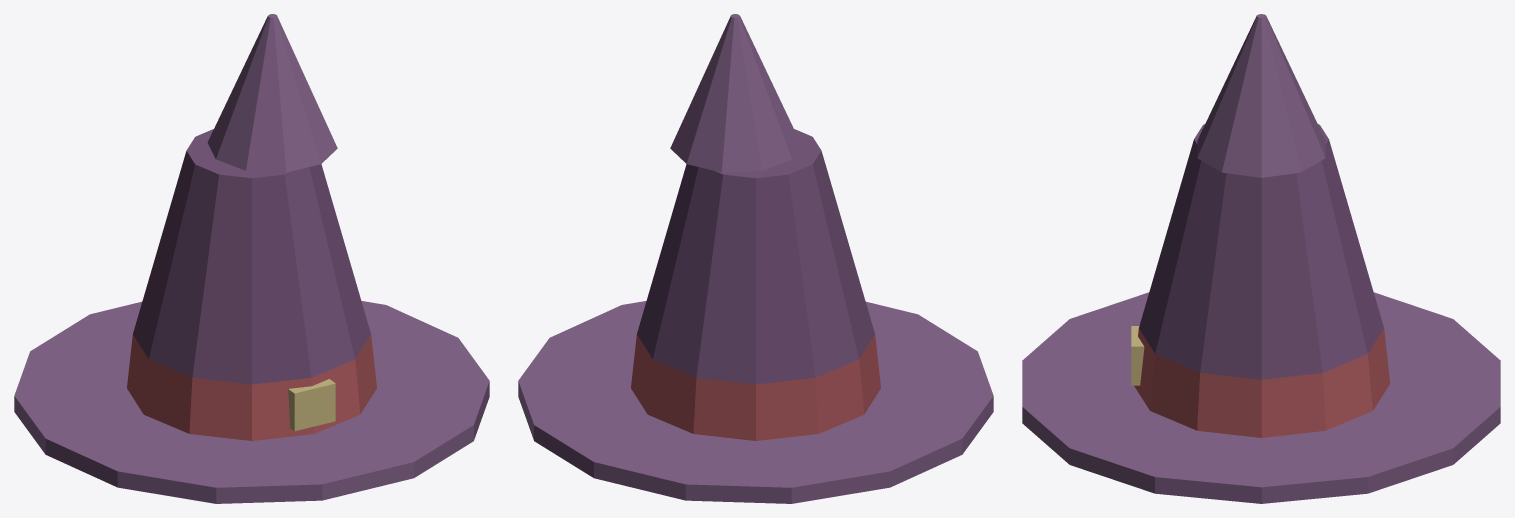
Rendered from sabrino_hat.glb.
3 renders of one model, left to right at view 1: azimuth 30°, elevation 25°; view 2: azimuth 150°, elevation 25°; view 3: azimuth 270°, elevation 25°, orthographic. The views are drawn at different scales.
Parts seen in each view (by area): view 1: sabrino_hat; view 2: sabrino_hat; view 3: sabrino_hat.
Part boxes in pixels (<box>): sabrino_hat: <box>14,14,489,503</box>; sabrino_hat: <box>518,14,993,503</box>; sabrino_hat: <box>1022,14,1500,503</box>.
Bounding box in the file's own units: 0.4 × 0.355 × 0.39.
